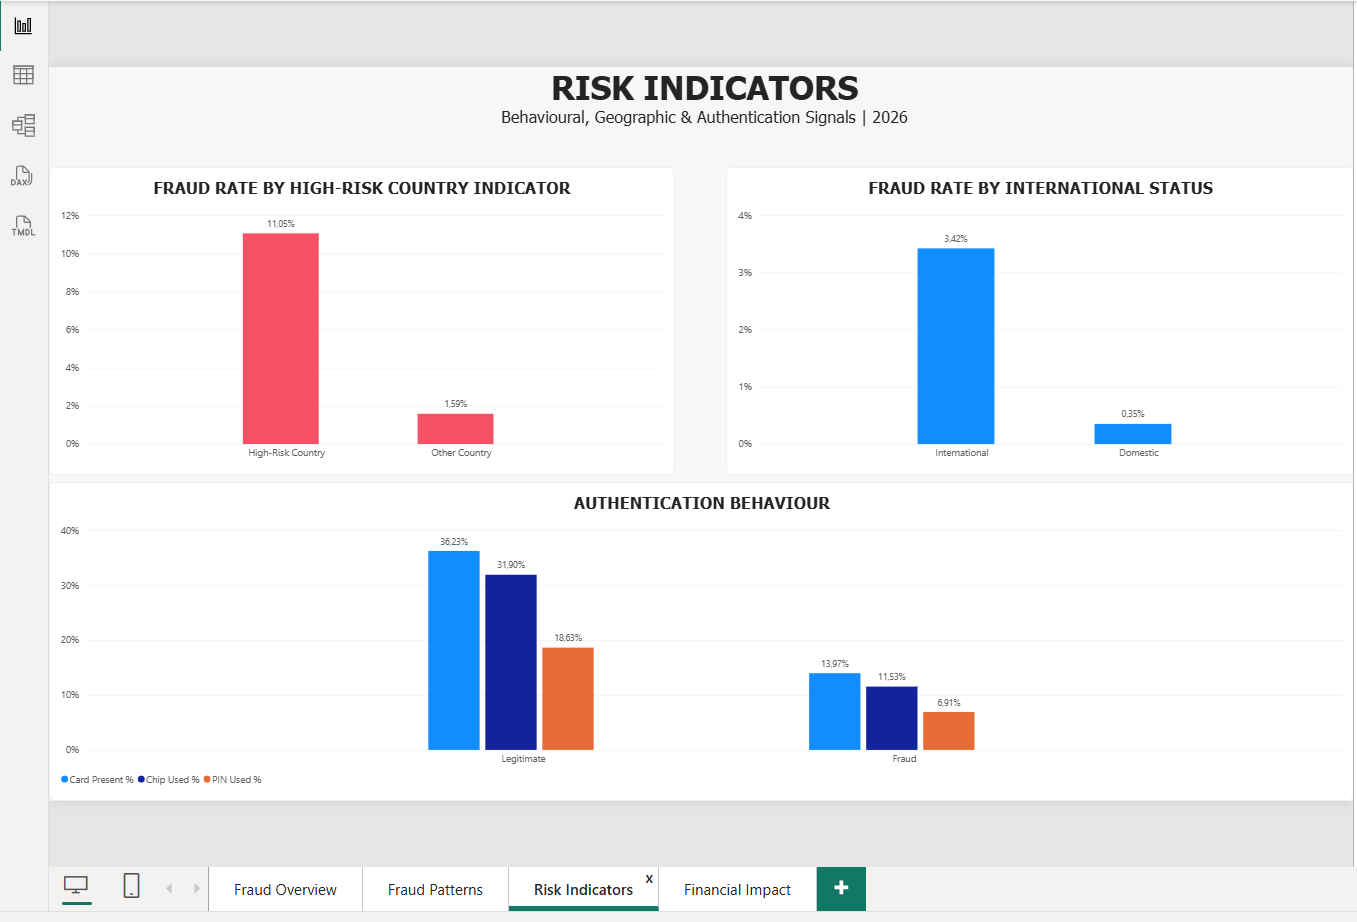

This screenshot's page, from the dashboard's own definition file:
{"tool":"powerbi","page":{"name":"Risk Indicators","canvas":[1920,1080],"ordinal":2},"visuals":[{"type":"textbox","box":[9.2,0,1911.2,84.6],"z":0},{"type":"textbox","box":[9.2,58.9,1911.2,49.7],"z":1},{"type":"clusteredColumnChart","title":"FRAUD RATE BY HIGH-RISK COUNTRY INDICATOR","fields":{"Category":["Transactions.High Risk Country Label"],"Y":["Transactions.Fraud Rate"]},"box":[0,147.2,919.7,452.5],"z":2},{"type":"clusteredColumnChart","title":"FRAUD RATE BY INTERNATIONAL STATUS","fields":{"Category":["Transactions.International Label"],"Y":["Transactions.Fraud Rate"]},"box":[997,147.2,923.4,452.5],"z":3},{"type":"clusteredColumnChart","title":"AUTHENTICATION BEHAVIOUR","fields":{"Category":["Transactions.Fraud Status"],"Y":["Transactions.Card Present %","Transactions.Chip Used %","Transactions.PIN Used %"]},"box":[0,610.7,1920.4,469.1],"z":4}]}

Visuals, with their boxes on the page's 1920x1080 design canvas (x1, y1, x2, y2). These are canvas units, not pixel positions in the 1357x922 screenshot, which may show the page scaled, cropped or inside an application window:
textbox: [9, 0, 1920, 85]
textbox: [9, 59, 1920, 109]
"FRAUD RATE BY HIGH-RISK COUNTRY INDICATOR" clusteredColumnChart: [0, 147, 920, 600]
"FRAUD RATE BY INTERNATIONAL STATUS" clusteredColumnChart: [997, 147, 1920, 600]
"AUTHENTICATION BEHAVIOUR" clusteredColumnChart: [0, 611, 1920, 1080]
